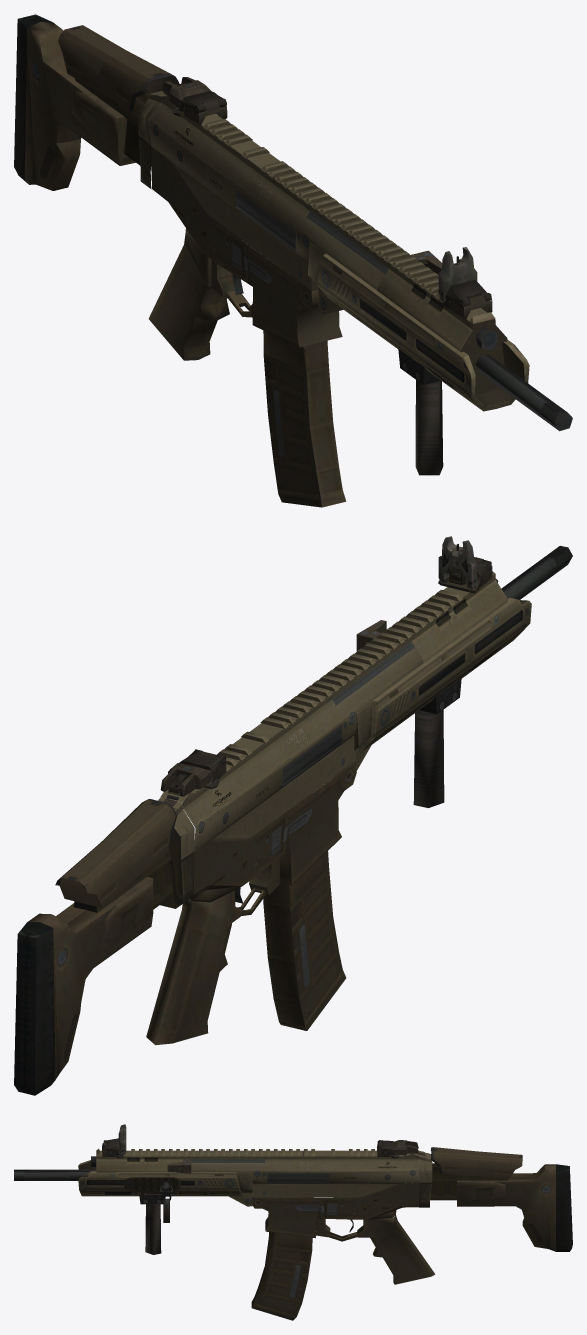
Rendered from Assault_Rifle_ACR_Rifle_Body_LOD_(000975).glb.
The picture shows the model from 3 angles, top to bottom: view 1: azimuth 30°, elevation 25°; view 2: azimuth 150°, elevation 25°; view 3: azimuth 270°, elevation 25°; orthographic projection. The views are drawn at different scales.
Visible parts, largest first — view 1: pw_1053_ACR_dj_LOD1; view 2: pw_1053_ACR_dj_LOD1; view 3: pw_1053_ACR_dj_LOD1.
Part boxes in pixels (<box>): pw_1053_ACR_dj_LOD1: <box>14,14,572,507</box>; pw_1053_ACR_dj_LOD1: <box>14,536,572,1095</box>; pw_1053_ACR_dj_LOD1: <box>14,1124,572,1320</box>.
Size of the model in its own units: 0.0742 by 0.3547 by 0.9415.
Materials: 1 (1 with a texture image).
